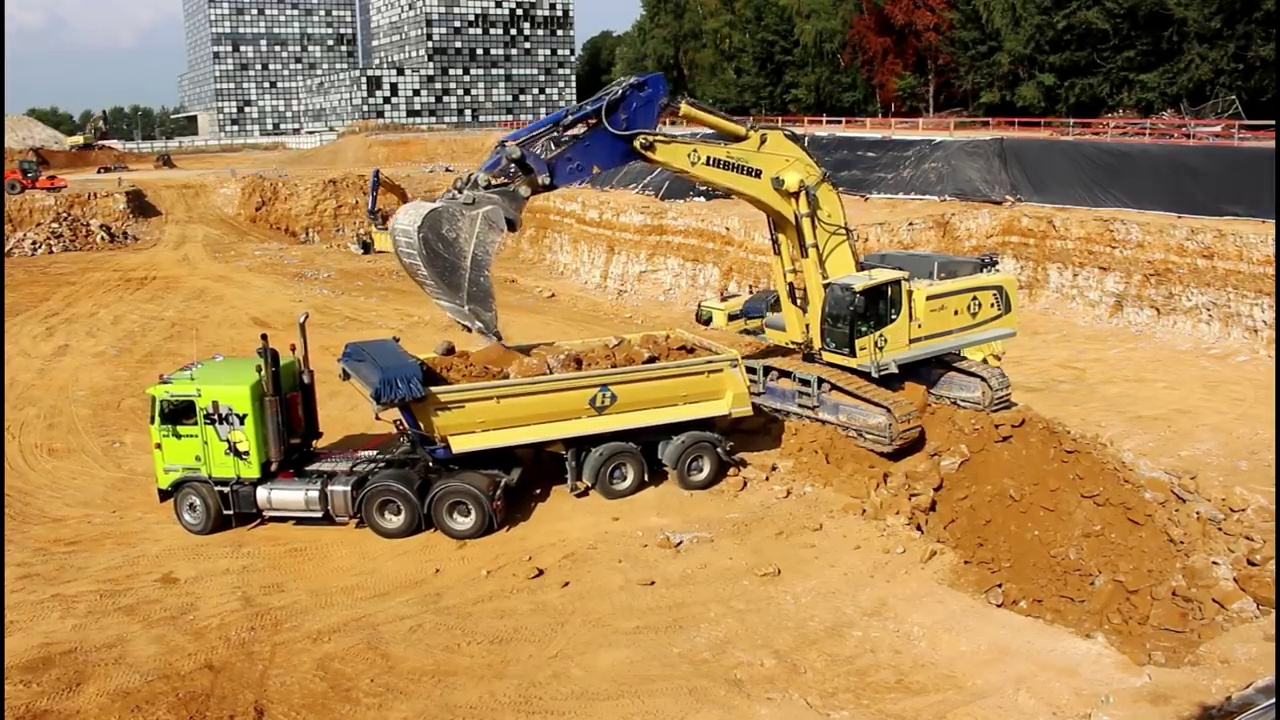compactor: (64, 107, 122, 161)
excavator: (385, 68, 1023, 458), (347, 165, 431, 236), (5, 157, 72, 196)
truck: (143, 310, 758, 544), (343, 223, 446, 275)
